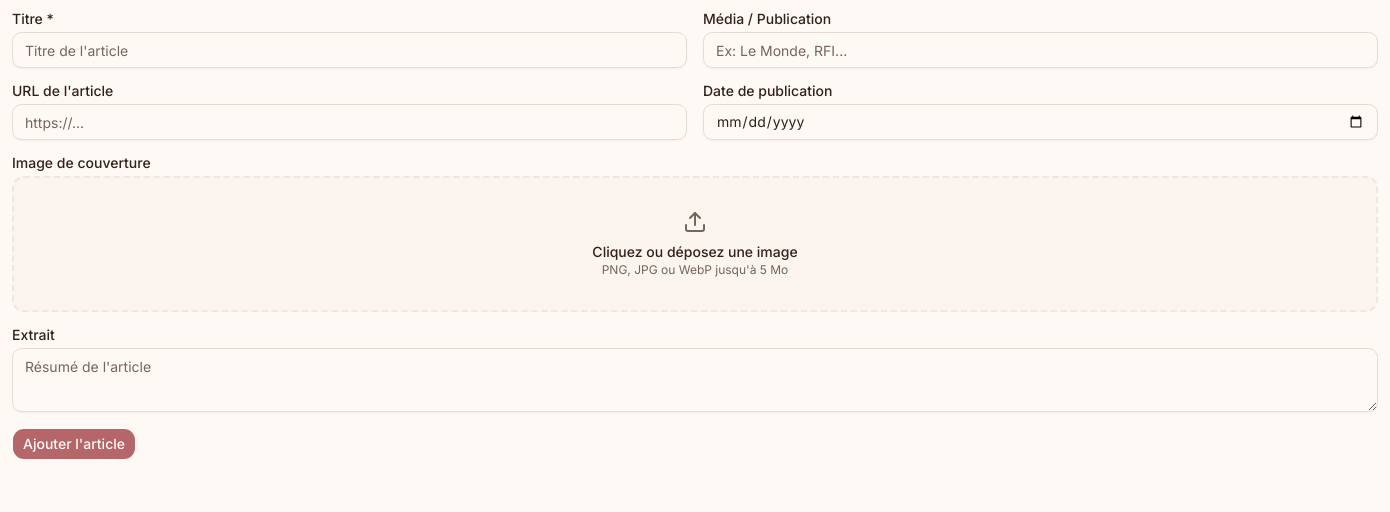
Test: PressForm › shows the error returned by the action
Type "Un article" into the field labelled "Titre *".
click(350, 50); type("Un article")  # box [12,32,687,68]
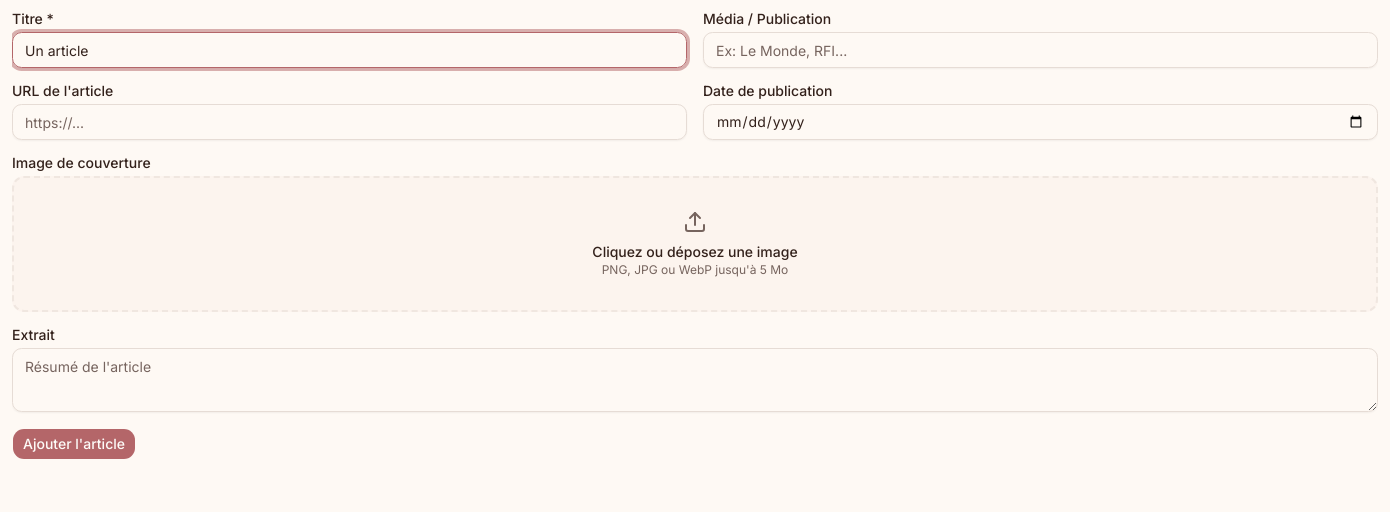
Click the button "Ajouter l'article".
click(74, 444)  # box [12,428,136,460]
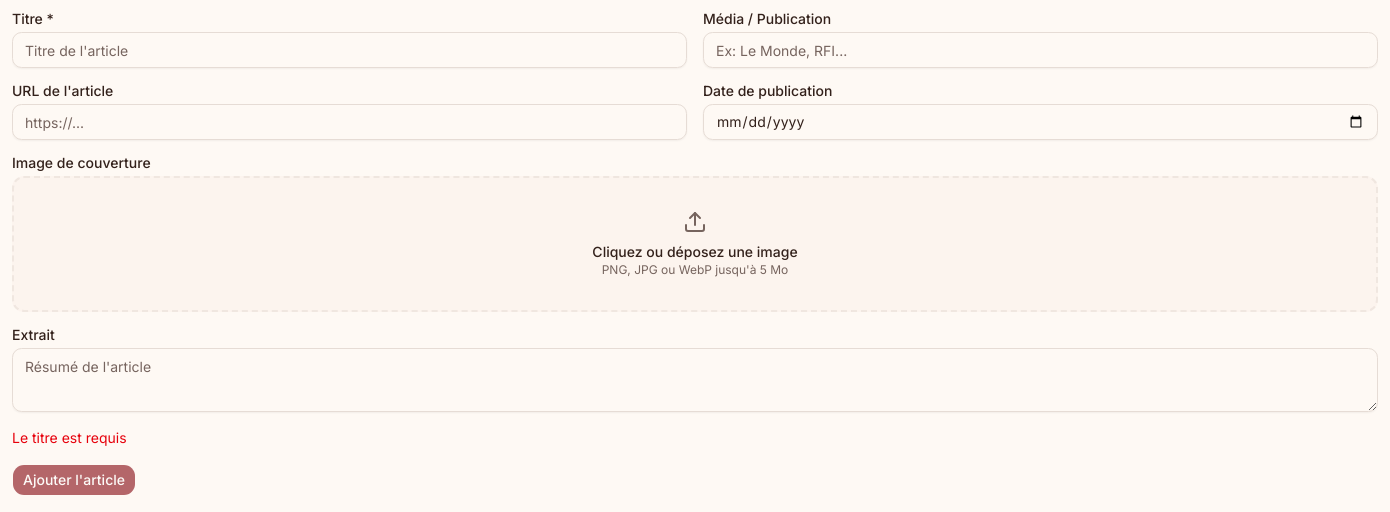
Now the text "Le titre est requis" is shown, box [12,429,127,446]
